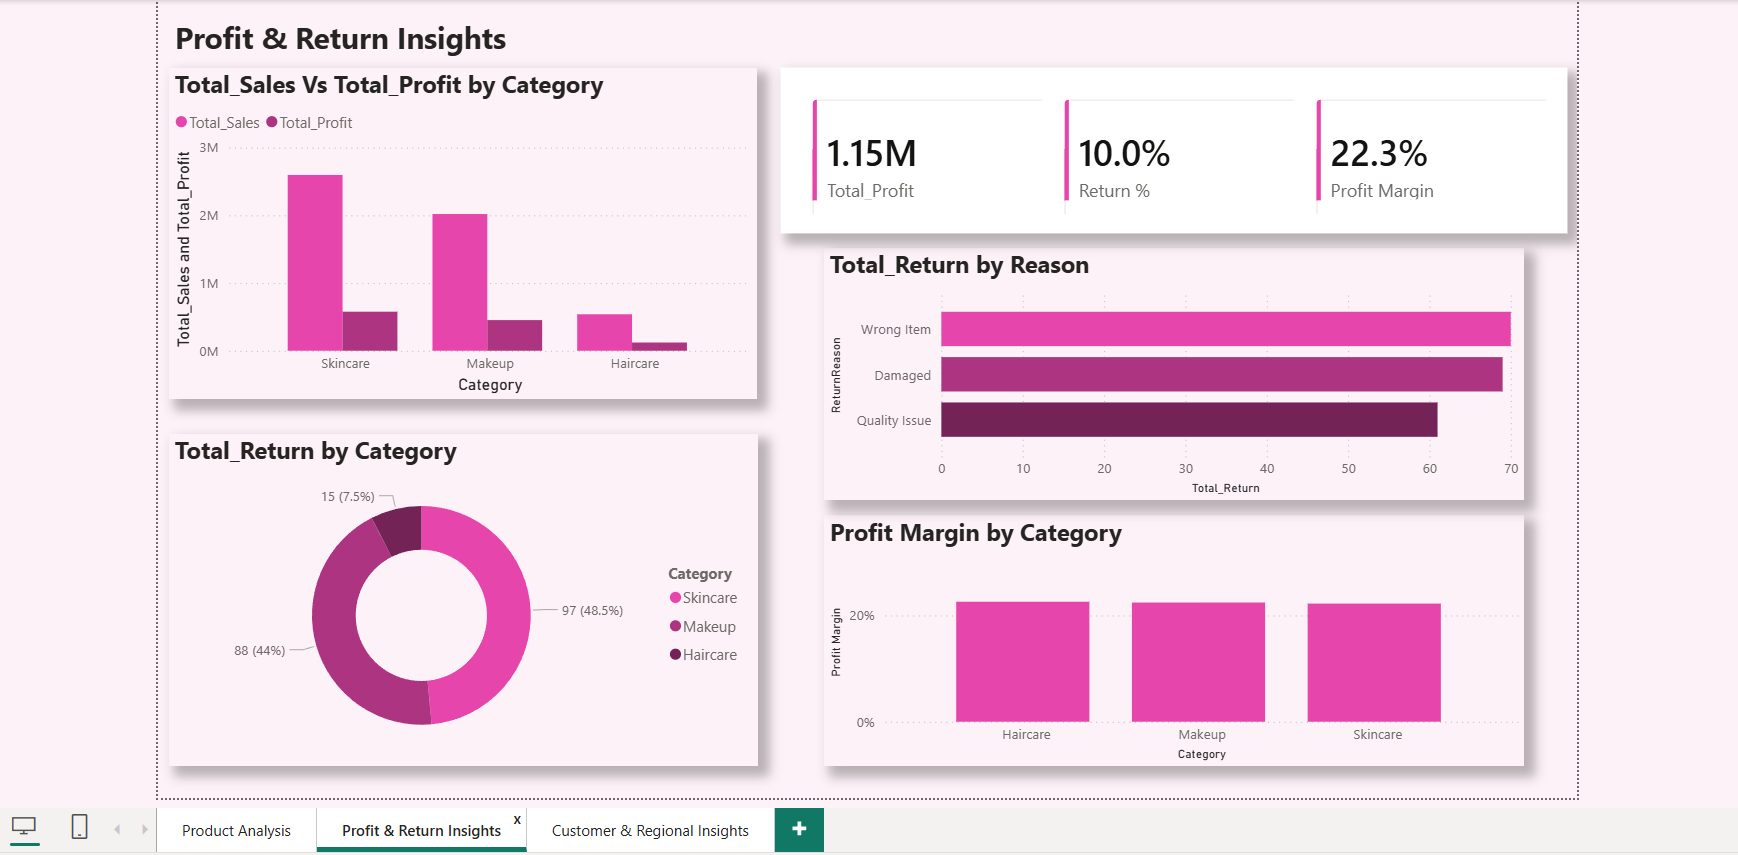

What the dashboard file says about the page in this screenshot:
{"tool":"powerbi","page":{"name":"Profit & Return Insights","canvas":[1280,720],"ordinal":1},"visuals":[{"type":"textbox","box":[9.6,9.6,319.7,50.8],"z":0},{"type":"clusteredColumnChart","title":"Total_Sales Vs Total_Profit by Category","fields":{"Y":["_Measure_Table.Total_Sales","_Measure_Table.Total_Profit"],"Category":["Nykaa_Sales_2017_2022.Category"]},"box":[9.6,60.4,529.7,299.1],"z":1000},{"type":"cardVisual","fields":{"Data":["_Measure_Table.Total_Profit","_Measure_Table.Return %","_Measure_Table.Profit Margin"]},"box":[561.2,60.4,709.4,149.6],"z":2000},{"type":"donutChart","fields":{"Y":["_Measure_Table.Total_Return"],"Category":["Nykaa_Sales_2017_2022.Category"]},"box":[9.6,391.1,531,299.1],"z":3000},{"type":"clusteredBarChart","title":"Total_Return by Reason","fields":{"Category":["Nykaa_Returns_2017_2022.ReturnReason"],"Y":["_Measure_Table.Total_Return"]},"box":[601,223.7,631.2,227.8],"z":4000},{"type":"clusteredColumnChart","fields":{"Y":["_Measure_Table.Profit Margin"],"Category":["Nykaa_Sales_2017_2022.Category"]},"box":[601,463.8,631.2,226.4],"z":5000}]}

Visuals, with their boxes on the page's 1280x720 design canvas (x1, y1, x2, y2). These are canvas units, not pixel positions in the 1738x855 screenshot, which may show the page scaled, cropped or inside an application window:
textbox: detection(10, 10, 329, 60)
"Total_Sales Vs Total_Profit by Category" clusteredColumnChart: detection(10, 60, 539, 360)
cardVisual - _Measure_Table.Total_Profit x _Measure_Table.Return %: detection(561, 60, 1271, 210)
donutChart - _Measure_Table.Total_Return x Nykaa_Sales_2017_2022.Category: detection(10, 391, 541, 690)
"Total_Return by Reason" clusteredBarChart: detection(601, 224, 1232, 452)
clusteredColumnChart - _Measure_Table.Profit Margin x Nykaa_Sales_2017_2022.Category: detection(601, 464, 1232, 690)
